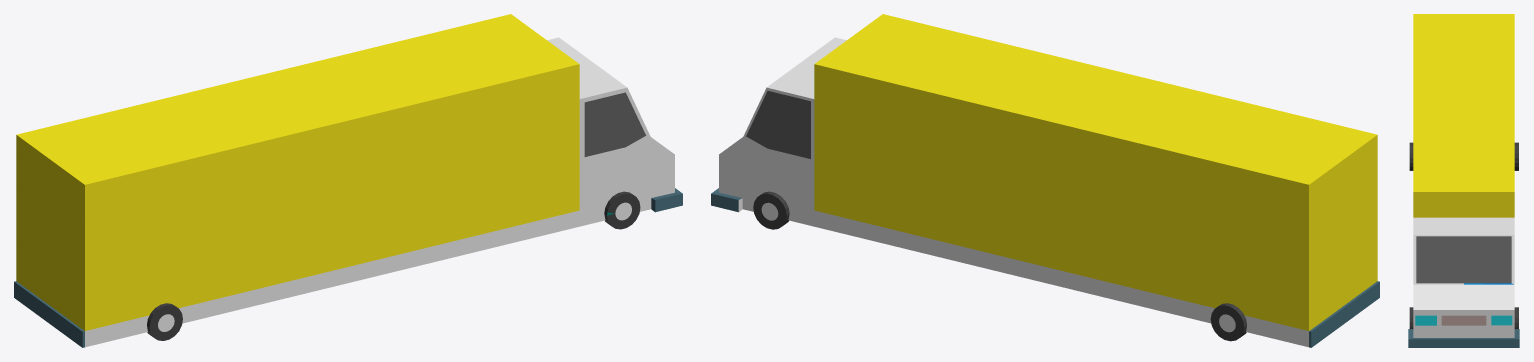
File: Kamionce4x1Yellow.fbx
3 renders of one model, left to right at view 1: azimuth 30°, elevation 25°; view 2: azimuth 150°, elevation 25°; view 3: azimuth 270°, elevation 25°, orthographic. The views are drawn at different scales.
Visible parts, largest first — view 1: Car_08_4; view 2: Car_08_4; view 3: Car_08_4.
Boxes of the visible parts, x1,y1,x2,y2 form: Car_08_4: (14,14,682,347); Car_08_4: (711,14,1379,347); Car_08_4: (1408,14,1519,347).
Size of the model in its own units: 3.99 by 1.1 by 0.8755.
Materials: 1 (1 with a texture image).
